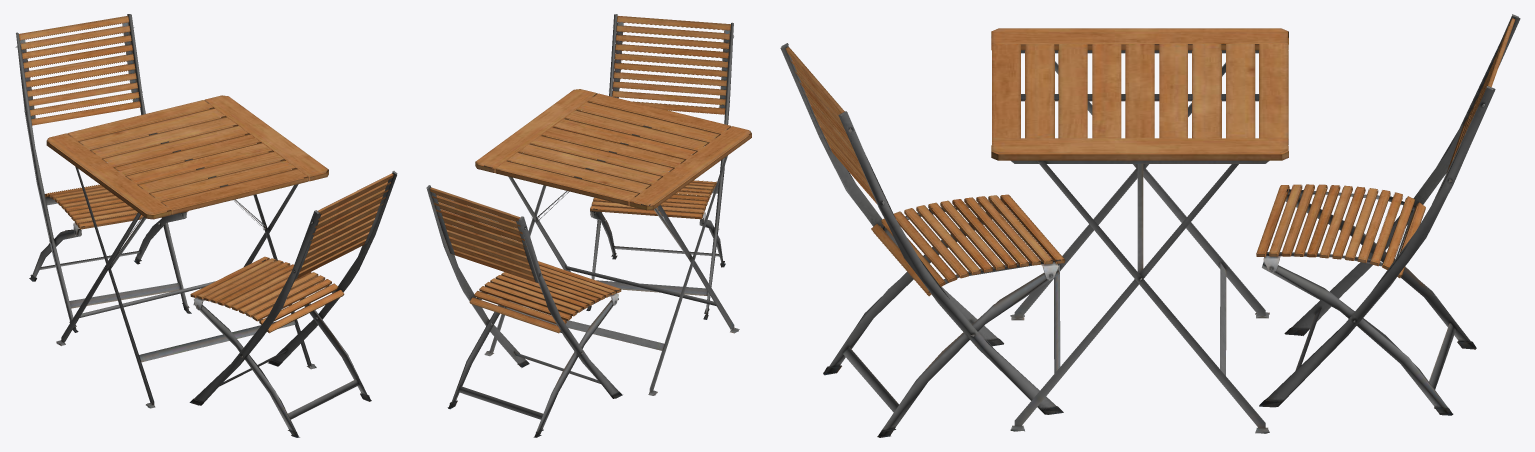
The model's file is outdoor_table_chair_set_01_1k.gltf.
3 renders of one model, left to right at view 1: azimuth 30°, elevation 25°; view 2: azimuth 150°, elevation 25°; view 3: azimuth 270°, elevation 25°, orthographic. The views are drawn at different scales.
Parts seen in each view (by area): view 1: outdoor_table_chair_set_01_table_LOD0, outdoor_table_chair_set_01_chair_01_LOD0, outdoor_table_chair_set_01_chair_02_LOD0; view 2: outdoor_table_chair_set_01_table_LOD0, outdoor_table_chair_set_01_chair_02_LOD0, outdoor_table_chair_set_01_chair_01_LOD0; view 3: outdoor_table_chair_set_01_table_LOD0, outdoor_table_chair_set_01_chair_01_LOD0, outdoor_table_chair_set_01_chair_02_LOD0.
Part boxes in pixels (x1,y1,x2,y2): outdoor_table_chair_set_01_table_LOD0: (46,95,328,408); outdoor_table_chair_set_01_chair_01_LOD0: (189,171,397,437); outdoor_table_chair_set_01_chair_02_LOD0: (15,14,191,332); outdoor_table_chair_set_01_table_LOD0: (475,89,751,395); outdoor_table_chair_set_01_chair_02_LOD0: (426,185,622,437); outdoor_table_chair_set_01_chair_01_LOD0: (586,14,733,319); outdoor_table_chair_set_01_table_LOD0: (991,28,1288,433); outdoor_table_chair_set_01_chair_01_LOD0: (780,43,1065,437); outdoor_table_chair_set_01_chair_02_LOD0: (1256,14,1520,415).
Size of what is drawn, in the model's own units: 0.7413 by 0.8564 by 1.72.
Materials: 2 (2 with a texture image).
